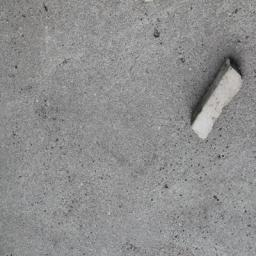FOD: (190, 55, 245, 144)
